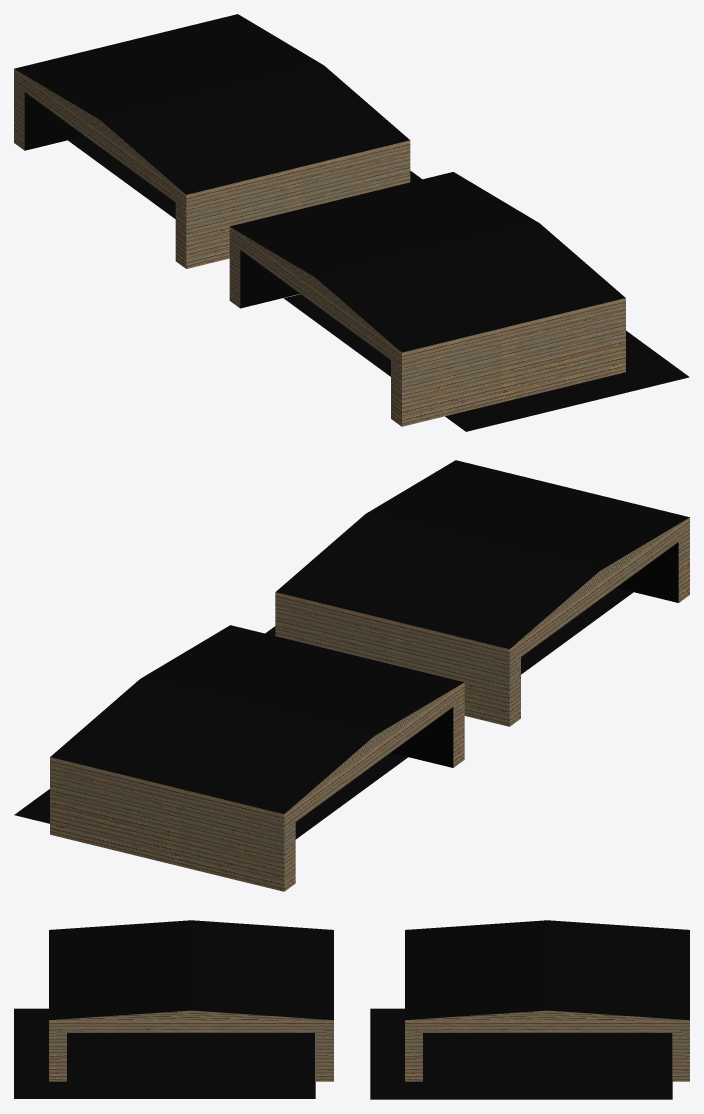
File: hangar.glb
3 renders of one model, top to bottom at view 1: azimuth 30°, elevation 25°; view 2: azimuth 150°, elevation 25°; view 3: azimuth 270°, elevation 25°, orthographic. The views are drawn at different scales.
Parts seen in each view (by area): view 1: Hangar2, Hangar1; view 2: Hangar1, Hangar2; view 3: Hangar1, Hangar2.
Boxes of the visible parts, x1,y1,x2,y2 form: Hangar2: [229, 172, 689, 431]; Hangar1: [14, 14, 421, 268]; Hangar1: [14, 625, 464, 891]; Hangar2: [265, 460, 689, 726]; Hangar1: [370, 920, 689, 1099]; Hangar2: [14, 920, 333, 1098].
Size of the model in its own units: 72.09 by 22 by 190.
Materials: 3 (1 with a texture image).
